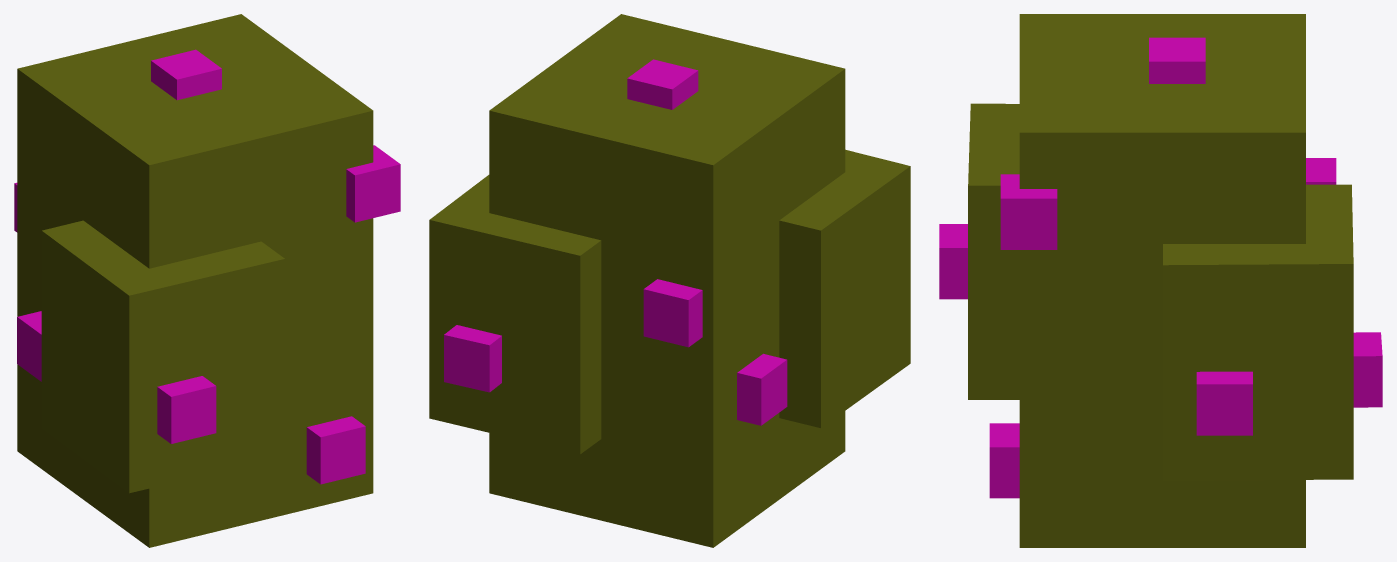
The model's file is Shrub13.fbx.
3 renders of one model, left to right at view 1: azimuth 30°, elevation 25°; view 2: azimuth 150°, elevation 25°; view 3: azimuth 270°, elevation 25°, orthographic. The views are drawn at different scales.
Parts seen in each view (by area): view 1: Cube.026, Cube.021; view 2: Cube.026, Cube.021; view 3: Cube.026, Cube.021.
Part boxes in pixels (bbox=[...]): Cube.026: bbox=[17, 14, 373, 547]; Cube.021: bbox=[14, 49, 400, 484]; Cube.026: bbox=[429, 14, 910, 547]; Cube.021: bbox=[444, 59, 787, 425]; Cube.026: bbox=[968, 14, 1353, 547]; Cube.021: bbox=[939, 37, 1382, 498].
Size of the model in its own units: 3901 by 4554 by 4179.
